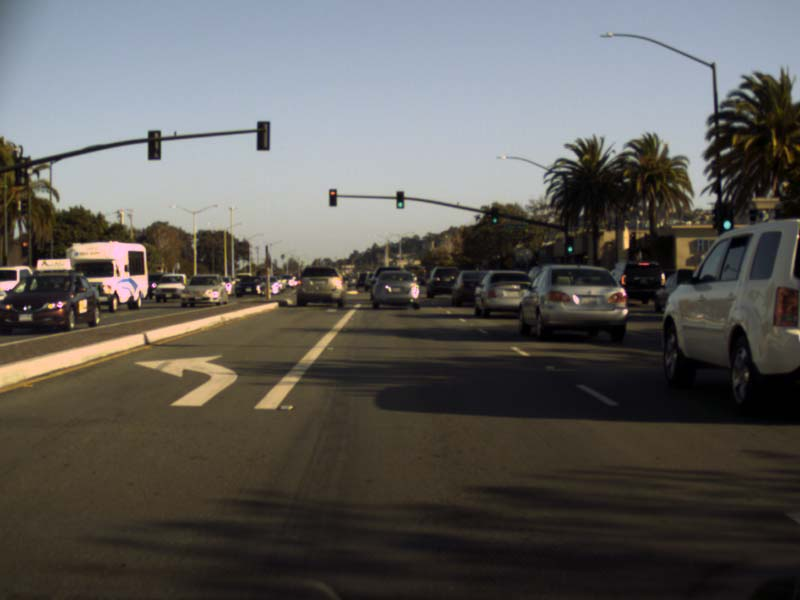Green: (566, 236, 575, 254), (397, 190, 404, 209), (492, 207, 499, 225)
Red: (329, 189, 336, 205), (21, 239, 28, 255)
